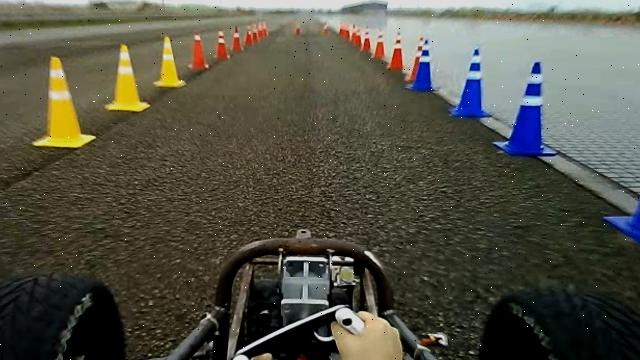blue cone: (493, 61, 559, 156), (448, 47, 493, 118), (405, 39, 436, 92)
yellow cone: (32, 55, 97, 149), (105, 43, 150, 112), (153, 36, 187, 88)
